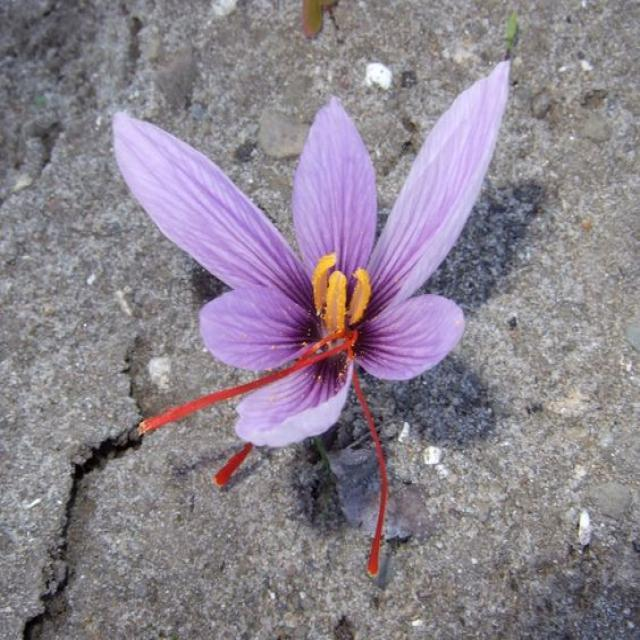Flower: (95, 44, 536, 457)
stigma: (136, 326, 361, 435), (350, 364, 391, 576)
